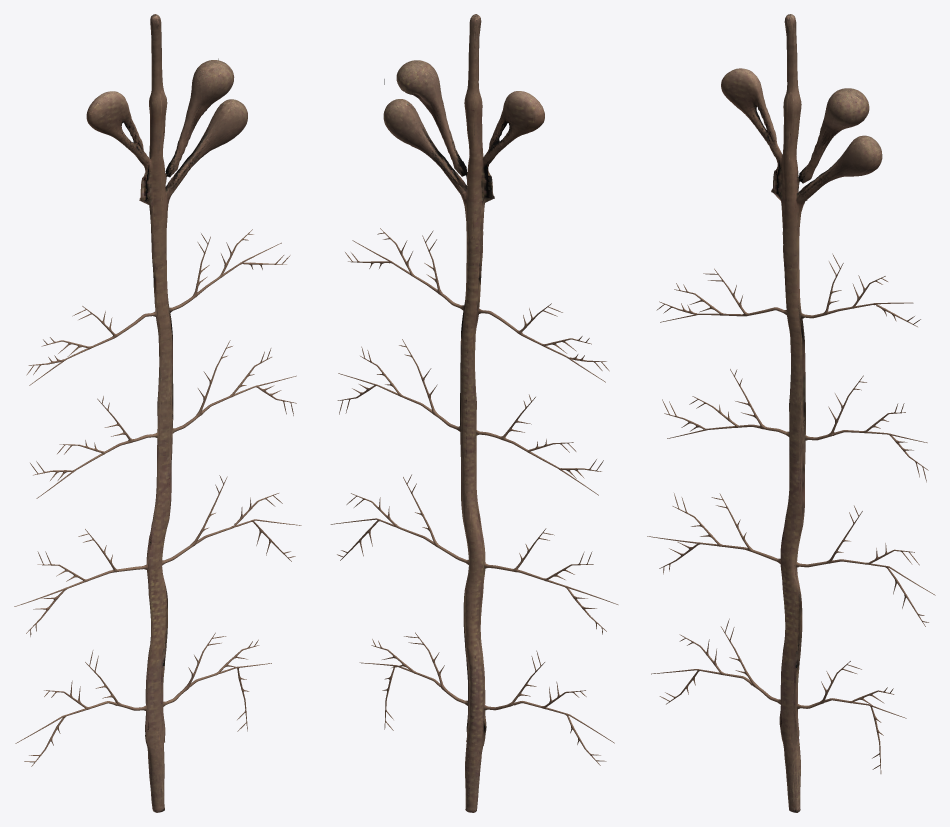
The picture shows the model from 3 angles, left to right: view 1: azimuth 30°, elevation 25°; view 2: azimuth 150°, elevation 25°; view 3: azimuth 330°, elevation 25°; orthographic projection.
Parts seen in each view (by area): view 1: Jimaodanus complete generated-source-inheriting specimen; view 2: Jimaodanus complete generated-source-inheriting specimen; view 3: Jimaodanus complete generated-source-inheriting specimen.
Boxes of the visible parts, bbox=[...] form: Jimaodanus complete generated-source-inheriting specimen: bbox=[14, 14, 301, 812]; Jimaodanus complete generated-source-inheriting specimen: bbox=[330, 14, 618, 812]; Jimaodanus complete generated-source-inheriting specimen: bbox=[647, 14, 935, 812].
Size of the model in its own units: 0.0529 by 0.14 by 0.00742.
2 materials, 1 textured.
